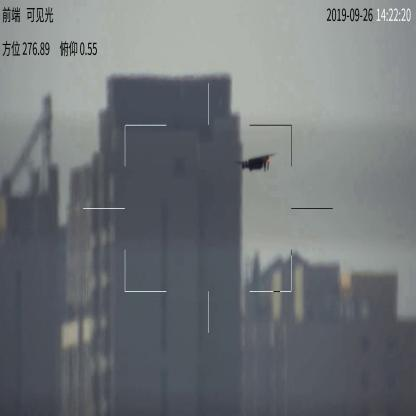uav: (233, 153, 276, 176)
